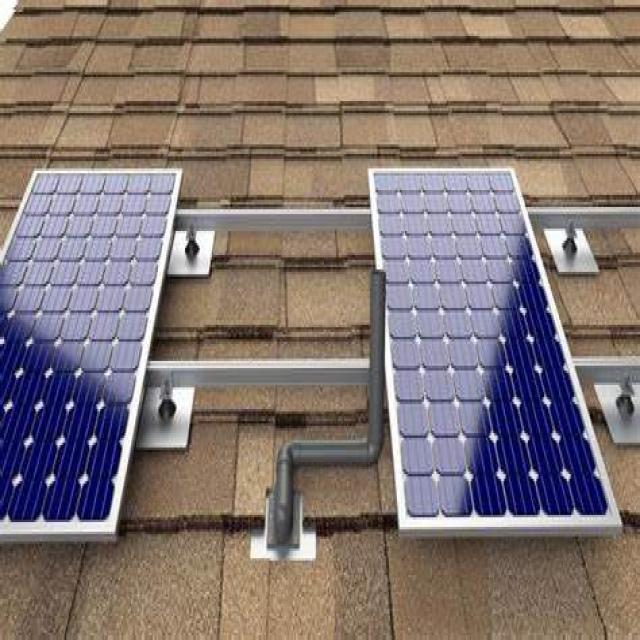clean-solar-panel: (371, 169, 621, 536), (0, 169, 181, 540)
